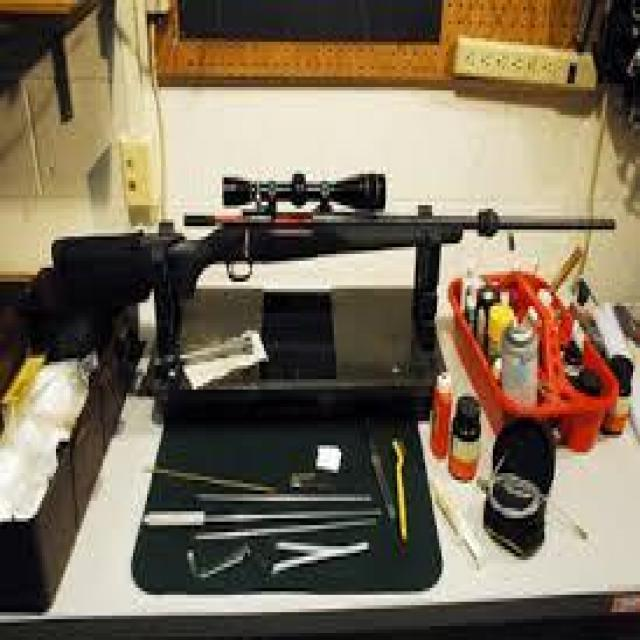weapon: (49, 165, 619, 360)
